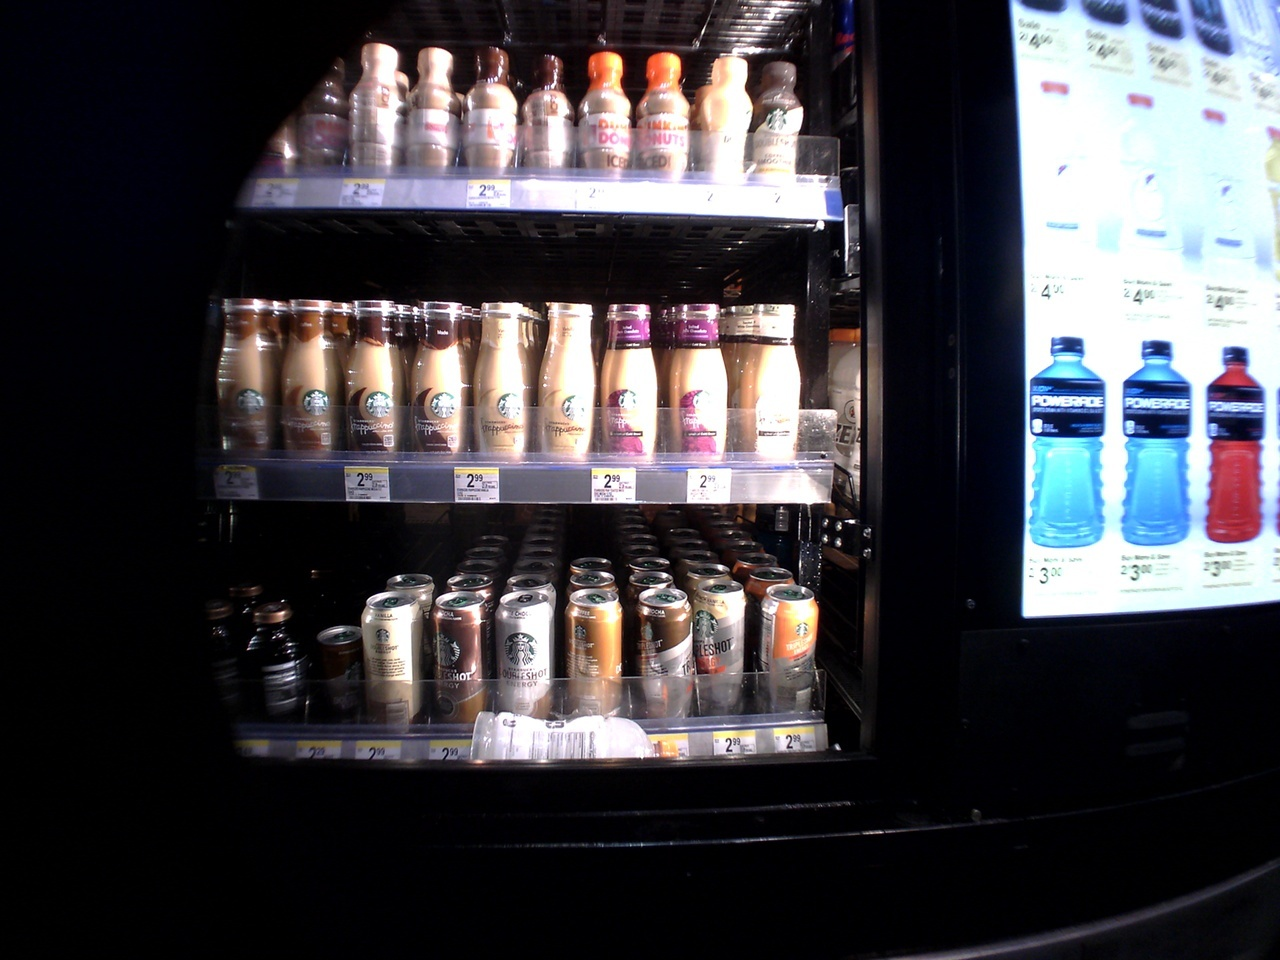shelf: (177, 505, 872, 781), (211, 267, 834, 508), (193, 8, 813, 221), (1031, 261, 1246, 622)
